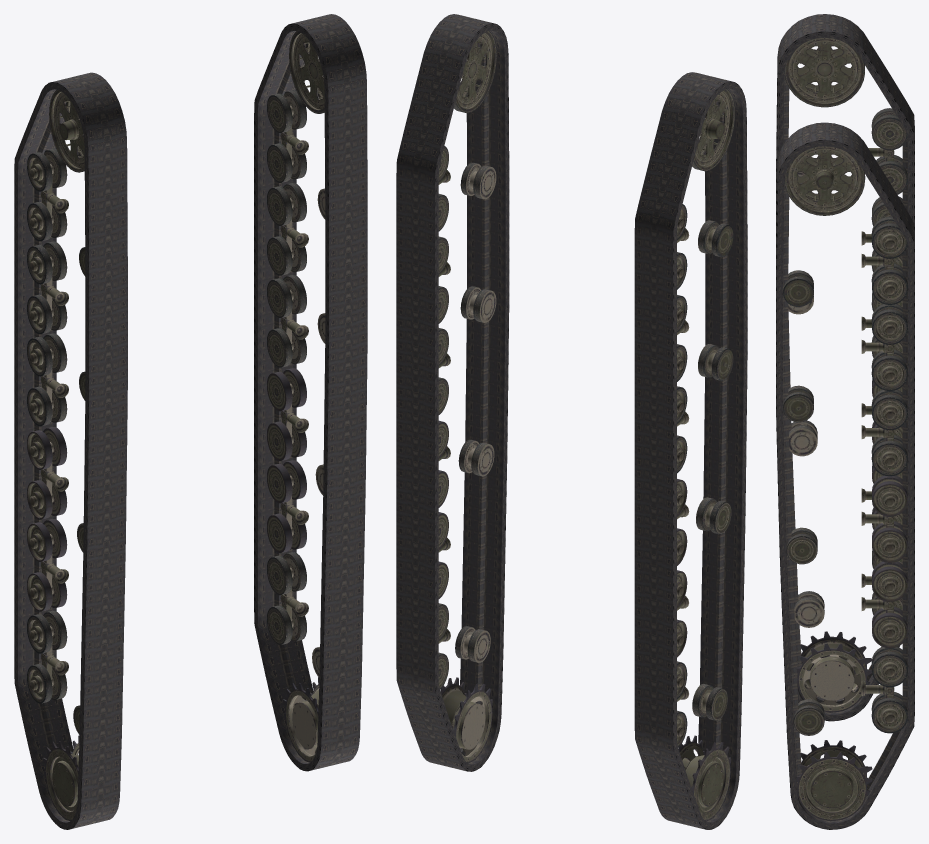
File: Chassis.glb
The picture shows the model from 3 angles, left to right: view 1: azimuth 30°, elevation 25°; view 2: azimuth 150°, elevation 25°; view 3: azimuth 270°, elevation 25°; orthographic projection. The views are drawn at different scales.
Visible parts, largest first — view 1: set_0_group_0, set_1_group_0, set_5_group_0, set_3_group_0; view 2: set_0_group_0, set_1_group_0, set_5_group_0, set_3_group_0; view 3: set_5_group_0, set_1_group_0, set_3_group_0, set_0_group_0.
Boxes of the visible parts, box(x1,y1,x2,y2) form: set_0_group_0: box(14, 72, 127, 829); set_1_group_0: box(254, 14, 367, 771); set_5_group_0: box(267, 31, 325, 762); set_3_group_0: box(27, 90, 85, 820); set_0_group_0: box(634, 72, 747, 829); set_1_group_0: box(396, 14, 509, 771); set_5_group_0: box(438, 31, 496, 762); set_3_group_0: box(677, 89, 734, 821); set_5_group_0: box(783, 146, 907, 821); set_1_group_0: box(776, 122, 914, 829); set_3_group_0: box(784, 37, 907, 712); set_0_group_0: box(776, 14, 914, 721).
Size of the model in its own units: 2.88 by 7.34 by 1.34.
6 materials, 6 textured.
